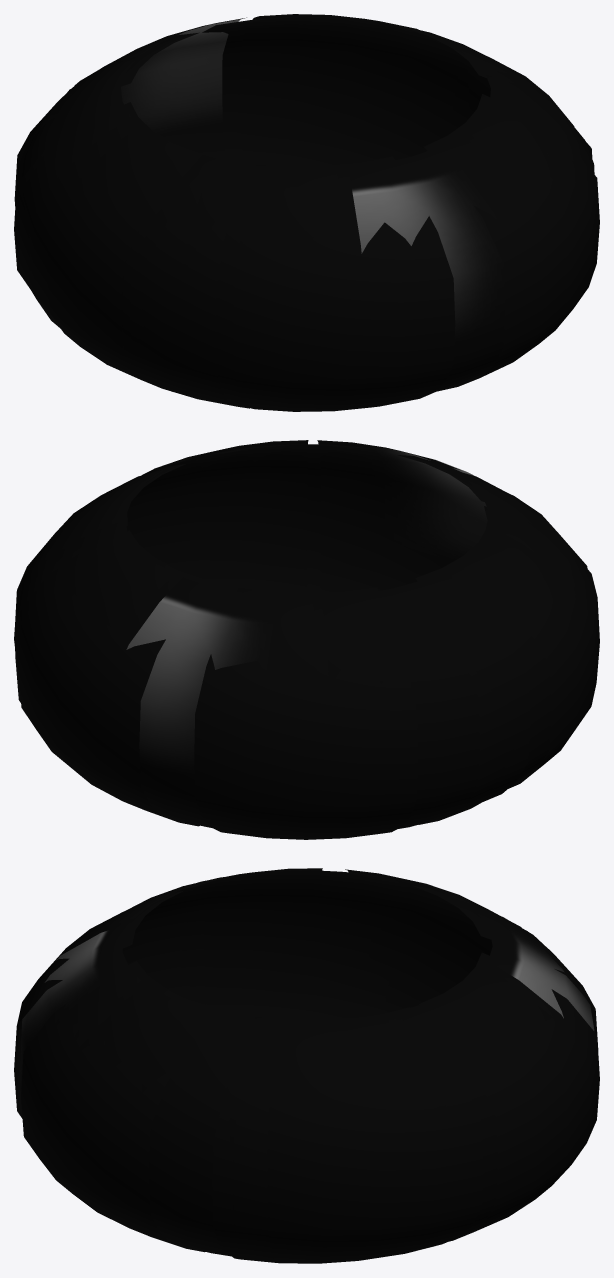
The model's file is p_mesh_plasmadrill_laserbeam_diameter_trail01_pose2.fbx.
The picture shows the model from 3 angles, top to bottom: view 1: azimuth 30°, elevation 25°; view 2: azimuth 150°, elevation 25°; view 3: azimuth 270°, elevation 25°; orthographic projection.
Parts seen in each view (by area): view 1: plasmadrill_diameter_trail02_pose2; view 2: plasmadrill_diameter_trail02_pose2; view 3: plasmadrill_diameter_trail02_pose2.
Boxes of the visible parts, x1,y1,x2,y2 form: plasmadrill_diameter_trail02_pose2: (14, 14, 599, 411); plasmadrill_diameter_trail02_pose2: (14, 440, 599, 839); plasmadrill_diameter_trail02_pose2: (14, 868, 599, 1263).
Bounding box in the file's own units: 32.03 × 15.05 × 32.37.
Materials: 2 (2 with a texture image).
